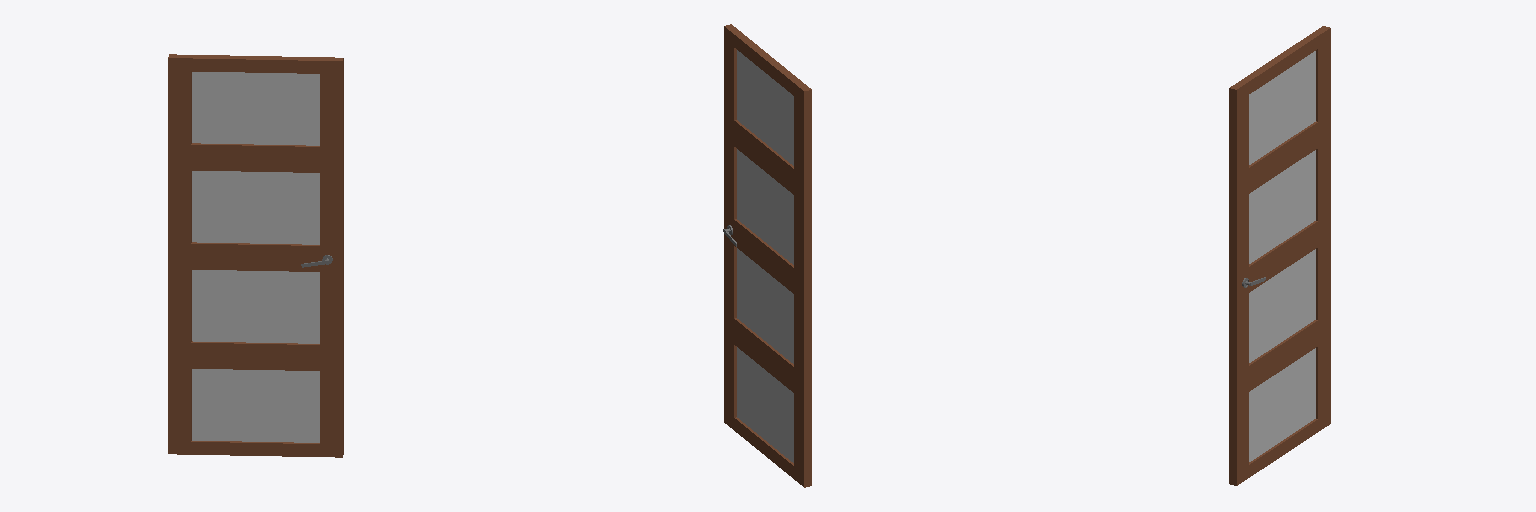
The picture shows the model from 3 angles: view 1: azimuth 30°, elevation 25°; view 2: azimuth 150°, elevation 25°; view 3: azimuth 270°, elevation 25°; orthographic projection.
Visible parts, largest first — view 1: Cube.018_Material; view 2: Cube.018_Material; view 3: Cube.018_Material.
Boxes of the visible parts, x1=… form: Cube.018_Material: x1=168, y1=54, x2=343, y2=457; Cube.018_Material: x1=723, y1=24, x2=811, y2=487; Cube.018_Material: x1=1229, y1=26, x2=1330, y2=485.
Bounding box in the file's own units: 0.6957 × 2 × 0.4644.
Materials: 1 (1 with a texture image).